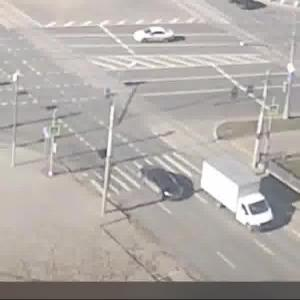car: (196, 156, 277, 232), (139, 166, 188, 205), (131, 29, 188, 48)
